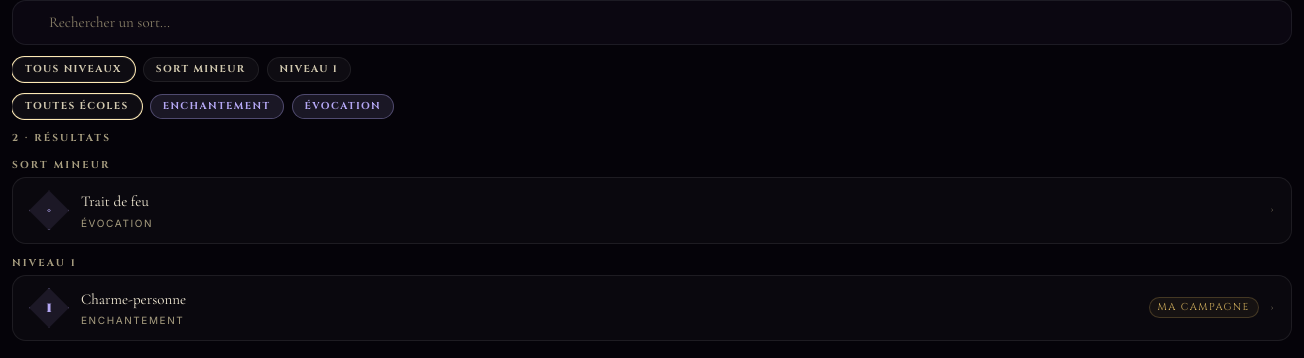
Test: SpellBrowser (Codex) › filtre par école via le chip école
This screenshot has width=1304, height=358.
# « Évocation » n'existe que sur Trait de feu.
Click the button "Évocation": click(343, 107) left=292, top=94, right=394, bottom=119
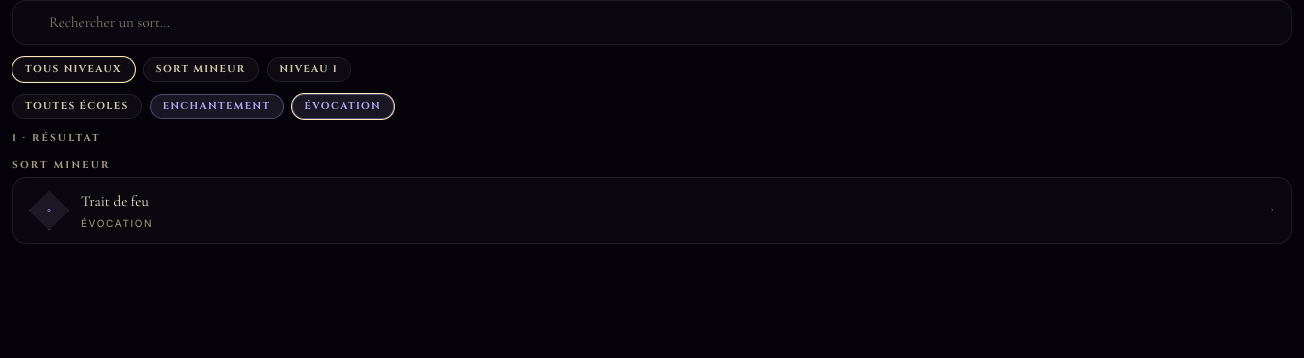
Expected: the text "Trait de feu" is shown, left=81, top=192, right=149, bottom=210
Now the button "Charme-personne" is gone
